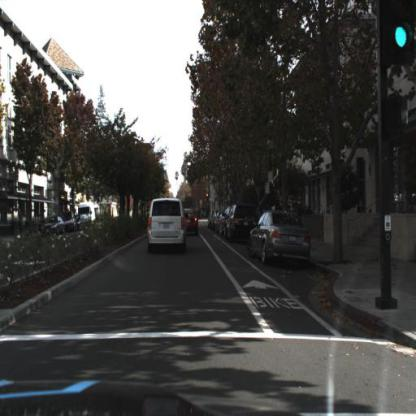car: (245, 208, 313, 264), (144, 193, 191, 261), (224, 202, 258, 248), (226, 203, 262, 244), (178, 200, 202, 243), (40, 214, 67, 239), (77, 200, 98, 232), (40, 216, 65, 239), (78, 201, 96, 228), (62, 210, 77, 234), (64, 211, 77, 233)
trafficLight-Green: (385, 1, 414, 63)
trafficLight-Red: (165, 193, 173, 201)
